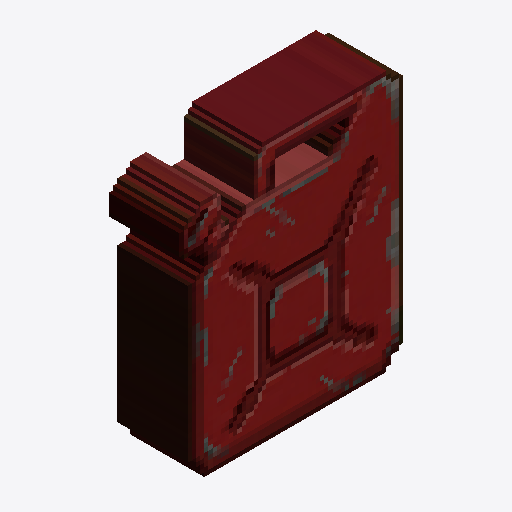
A Minecraft block model of 26 cuboids, rendered isometrically (azimuth 45°, elevation 35.3°) with the resource pack's own textures.
Parts seen in each view (by area): canister_25, canister_18, canister_0, canister_8, canister_3, canister_17, canister_7, canister_22, canister_6, canister_4, canister_14, canister_15 (+14 smaller).
Part boxes in pixels (left/top/right/bottom): canister_25: left=117, top=241, right=195, bottom=462; canister_18: left=275, top=143, right=327, bottom=435; canister_0: left=192, top=30, right=385, bottom=165; canister_8: left=337, top=95, right=385, bottom=395; canister_3: left=184, top=114, right=257, bottom=447; canister_17: left=171, top=159, right=253, bottom=454; canister_7: left=262, top=159, right=274, bottom=442; canister_22: left=188, top=250, right=216, bottom=476; canister_6: left=130, top=152, right=216, bottom=258; canister_4: left=325, top=33, right=398, bottom=354; canister_14: left=316, top=128, right=340, bottom=401; canister_15: left=109, top=190, right=183, bottom=256.
Size of the model in its own units: 13.5 by 15.75 by 4.25.